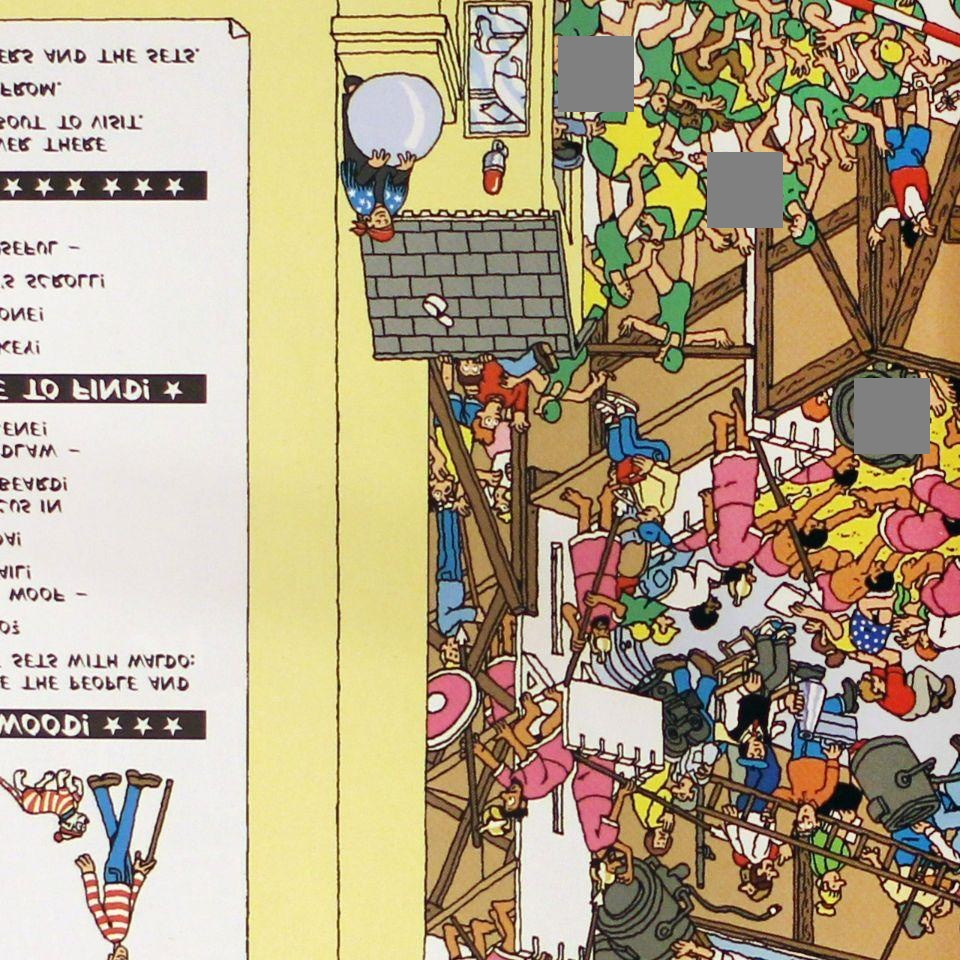waldo: (76, 771, 174, 960)
